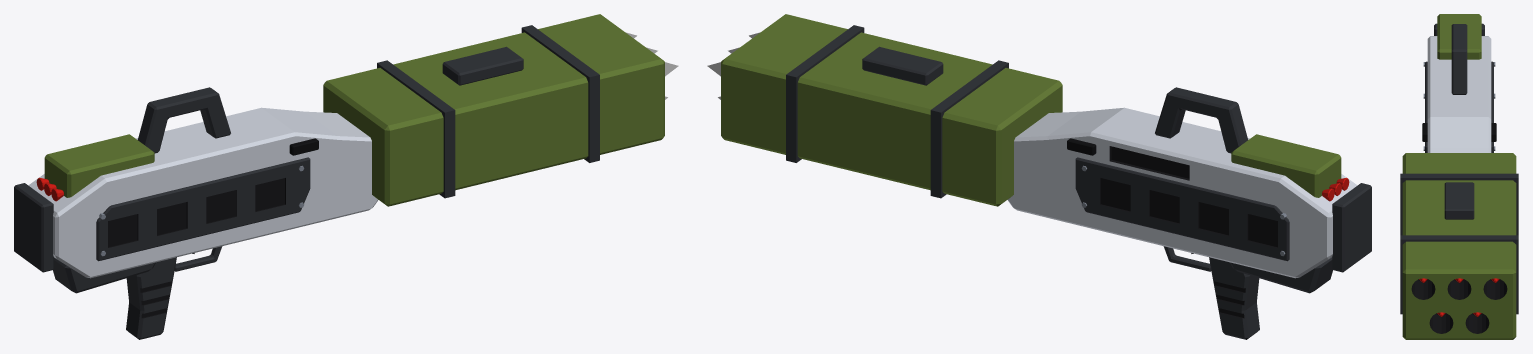
File: mini_rocket_swarmers42.obj
The picture shows the model from 3 angles, left to right: view 1: azimuth 30°, elevation 25°; view 2: azimuth 150°, elevation 25°; view 3: azimuth 270°, elevation 25°; orthographic projection. The views are drawn at different scales.
Parts seen in each view (by area): view 1: body, barrel, mag; view 2: body, barrel, mag; view 3: barrel, body, mag.
Part boxes in pixels (x1,y1,x2,y2): body: (14, 87, 378, 339); barrel: (323, 14, 664, 206); mag: (36, 134, 154, 201); body: (1007, 87, 1371, 339); barrel: (721, 14, 1062, 206); mag: (1231, 134, 1349, 201); barrel: (1400, 153, 1518, 339); body: (1422, 23, 1496, 152); mag: (1437, 14, 1481, 59).
Bounding box in the file's own units: 0.7192 × 0.247 × 0.1343.
